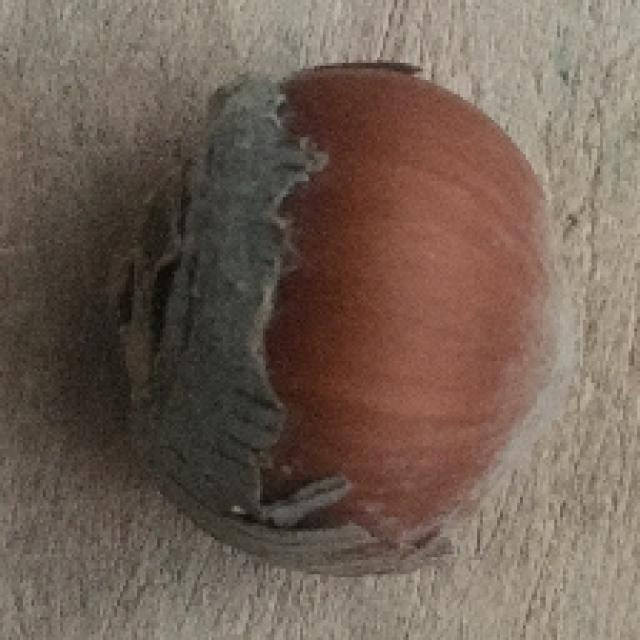damagedHazelnut: (101, 49, 572, 582)
